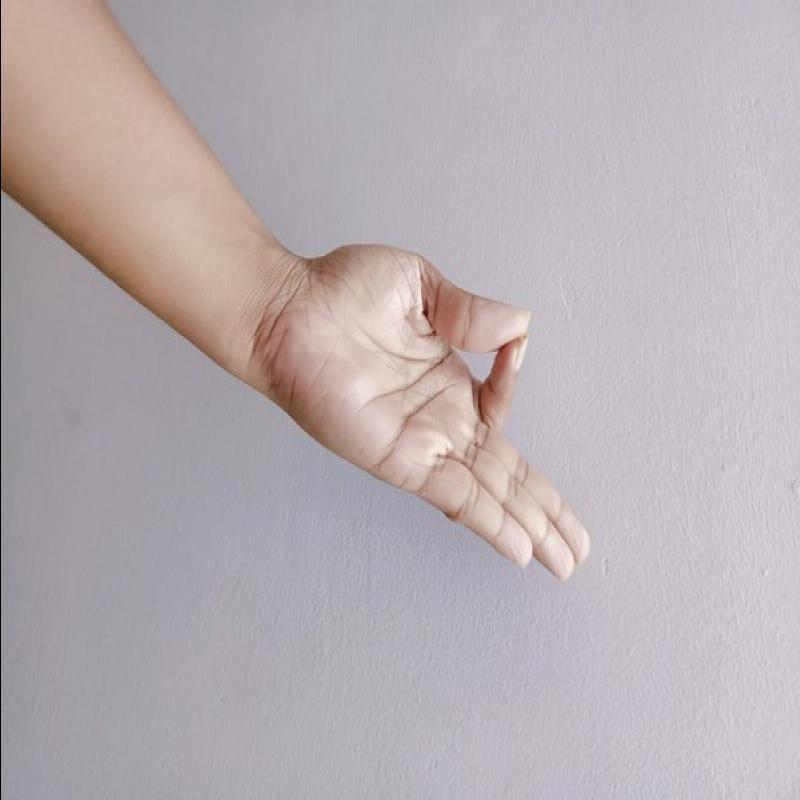Mudraakhyam: (251, 225, 611, 589)
